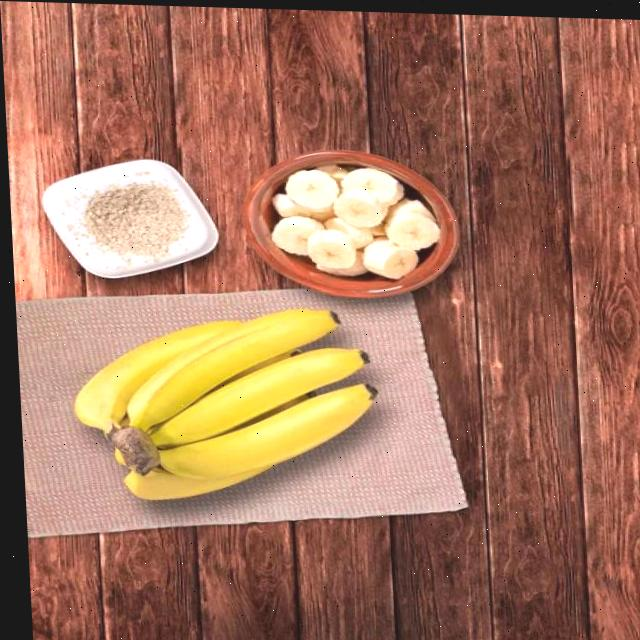banana: (61, 300, 387, 509)
